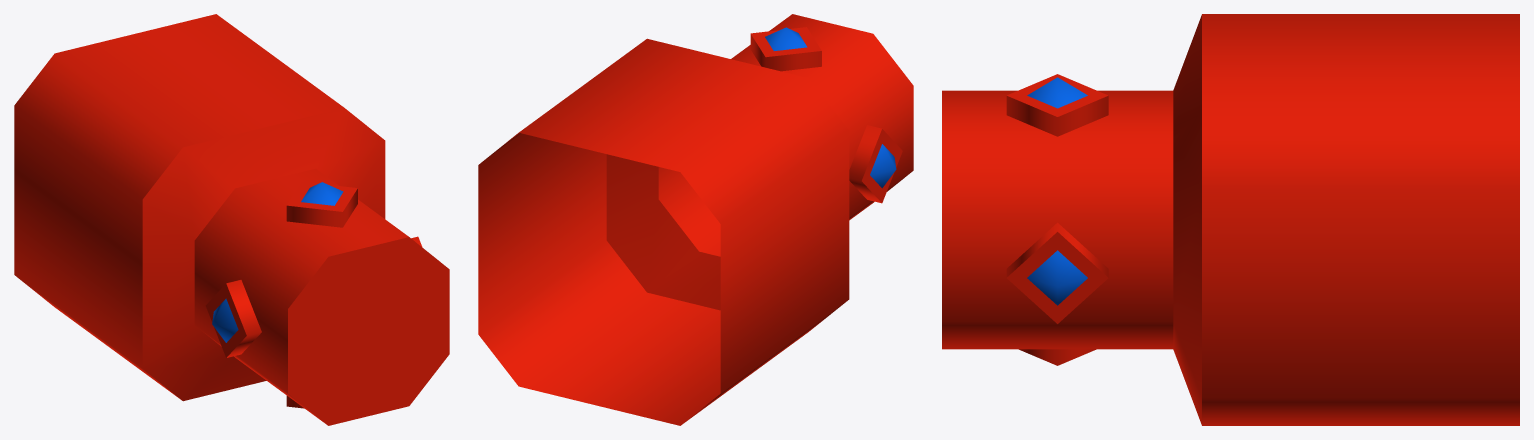
3 views of the same model, side by side, from view 1: azimuth 30°, elevation 25°; view 2: azimuth 150°, elevation 25°; view 3: azimuth 270°, elevation 25° (orthographic). The views are drawn at different scales.
Visible parts, largest first — view 1: Owl Shrone.001, Owl Shrone; view 2: Owl Shrone.001, Owl Shrone; view 3: Owl Shrone.001, Owl Shrone.
Boxes of the visible parts, <box> form: Owl Shrone.001: <box>14,14,449,425</box>; Owl Shrone: <box>212,182,343,342</box>; Owl Shrone.001: <box>478,14,913,425</box>; Owl Shrone: <box>765,27,896,188</box>; Owl Shrone.001: <box>942,14,1519,425</box>; Owl Shrone: <box>1027,77,1087,305</box>.
Bounding box in the file's own units: 1200 × 1200 × 2000.
